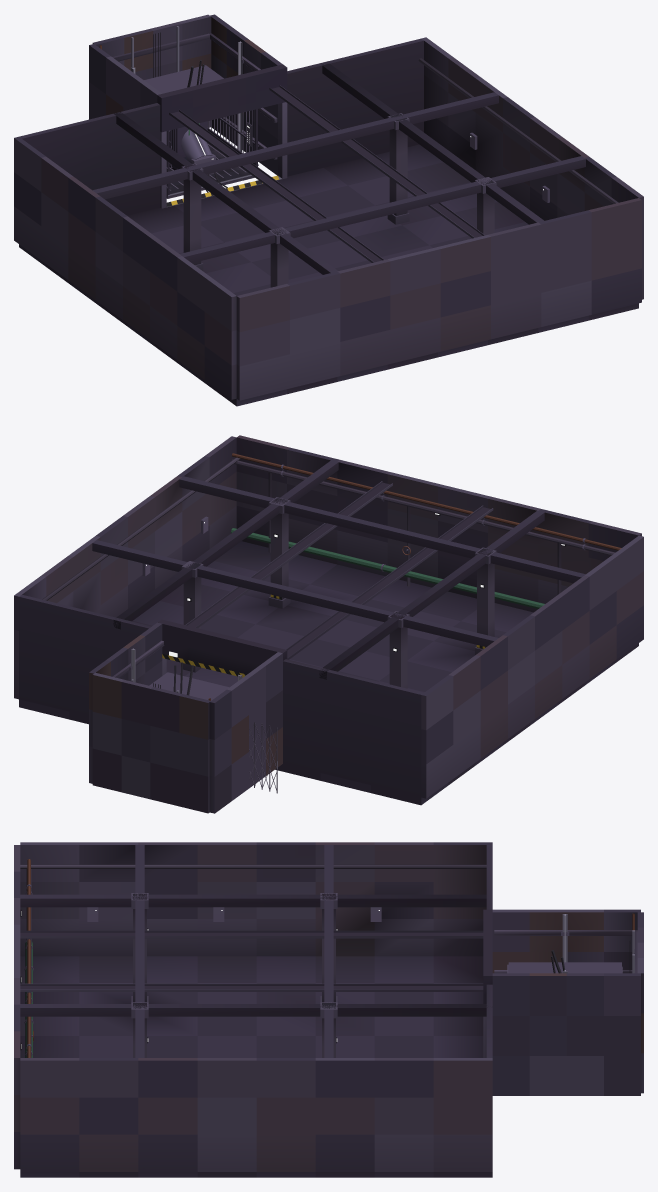
Rendered from terror.glb.
3 renders of one model, top to bottom at view 1: azimuth 30°, elevation 25°; view 2: azimuth 150°, elevation 25°; view 3: azimuth 270°, elevation 25°, orthographic. The views are drawn at different scales.
Visible parts, largest first — view 1: andar_solido, poco_solido, cabine_solido, cama_solido, maquina_solido; view 2: andar_solido, poco_solido, cabine_solido, porta_solido; view 3: andar_solido, poco_solido, cabine_solido.
Boxes of the visible parts, x1=… form: andar_solido: x1=14, y1=37, x2=643, y2=406; poco_solido: x1=89, y1=14, x2=282, y2=175; cabine_solido: x1=144, y1=65, x2=258, y2=198; cama_solido: x1=181, y1=130, x2=227, y2=192; maquina_solido: x1=169, y1=60, x2=207, y2=170; andar_solido: x1=14, y1=435, x2=643, y2=805; poco_solido: x1=89, y1=622, x2=282, y2=813; cabine_solido: x1=149, y1=672, x2=229, y2=700; porta_solido: x1=249, y1=722, x2=277, y2=793; andar_solido: x1=14, y1=842, x2=492, y2=1177; poco_solido: x1=492, y1=909, x2=643, y2=1095; cabine_solido: x1=507, y1=962, x2=622, y2=973.
Size of the model in its own units: 16.4 by 4.5 by 20.
